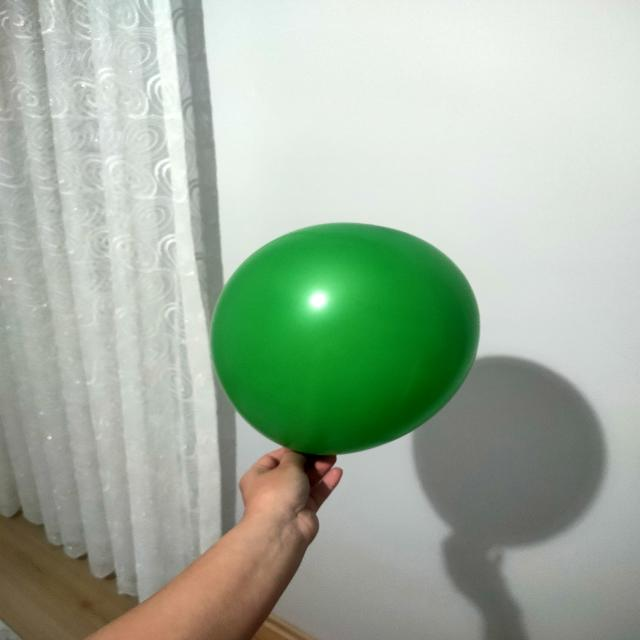green: (219, 224, 482, 455)
